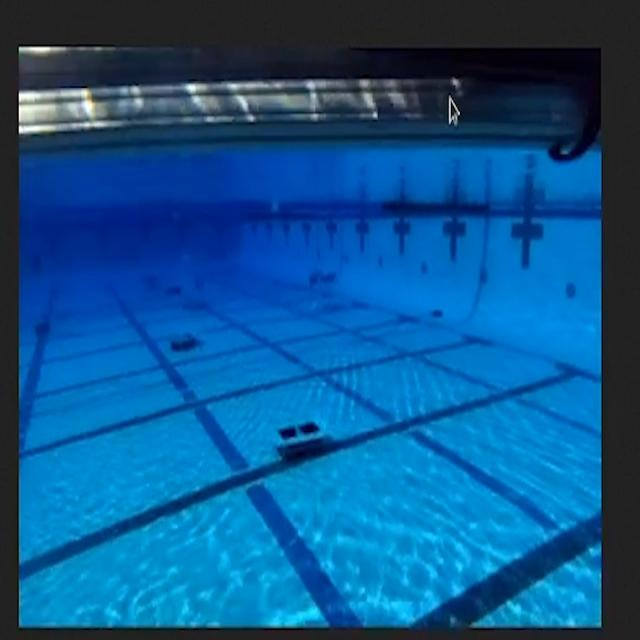Bin: (262, 411, 336, 452)
